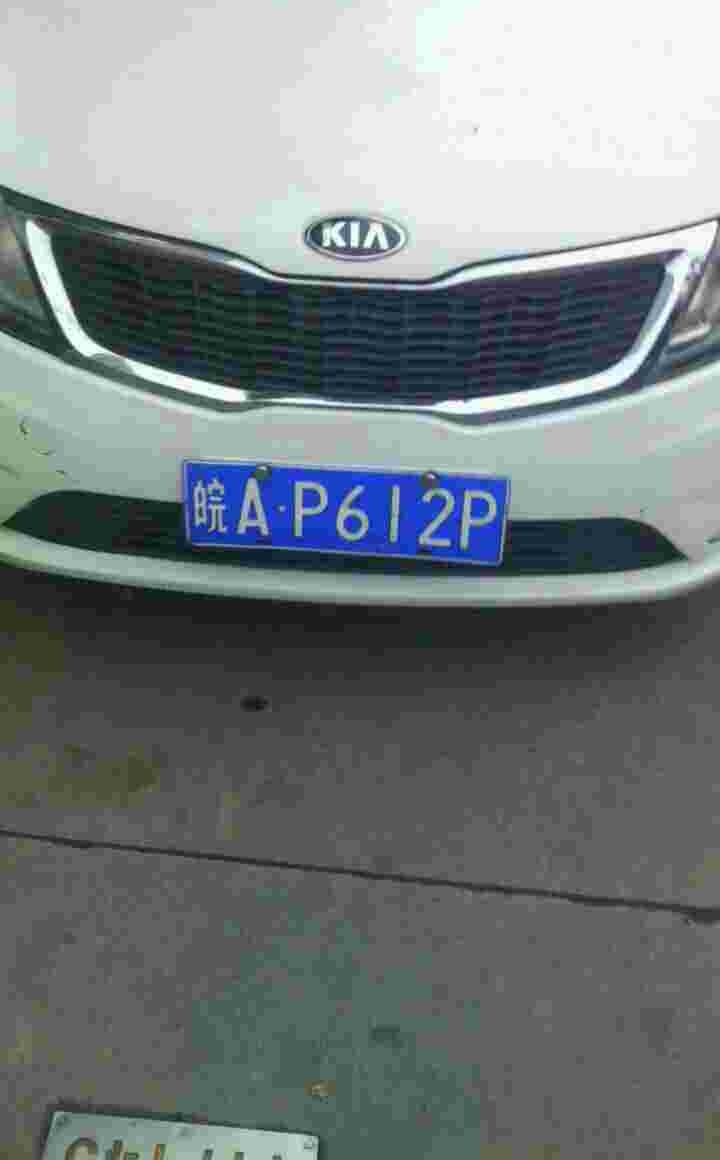license_plate: (186, 462, 505, 568)
